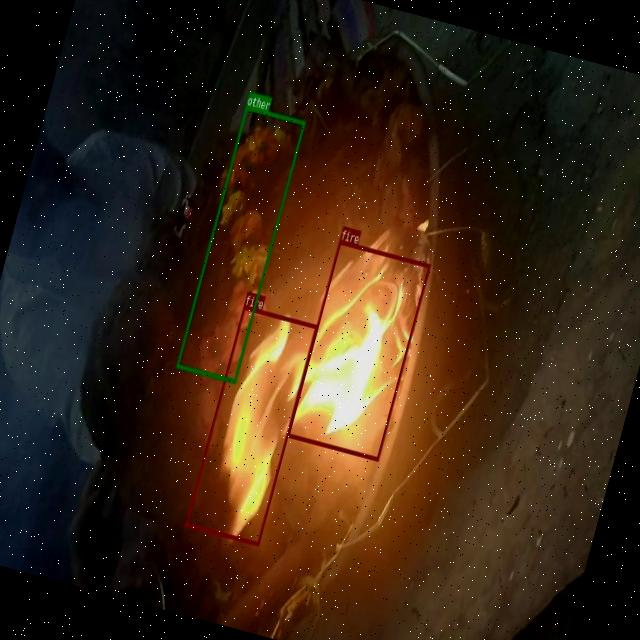fire: (184, 304, 317, 544), (286, 239, 430, 460)
